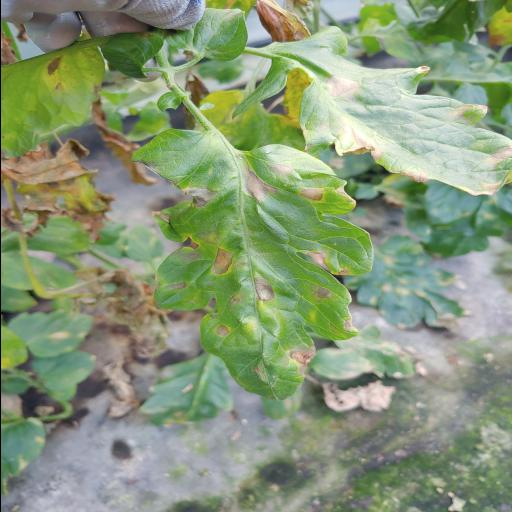disease_tomato: (130, 130, 372, 398), (256, 26, 512, 196)
